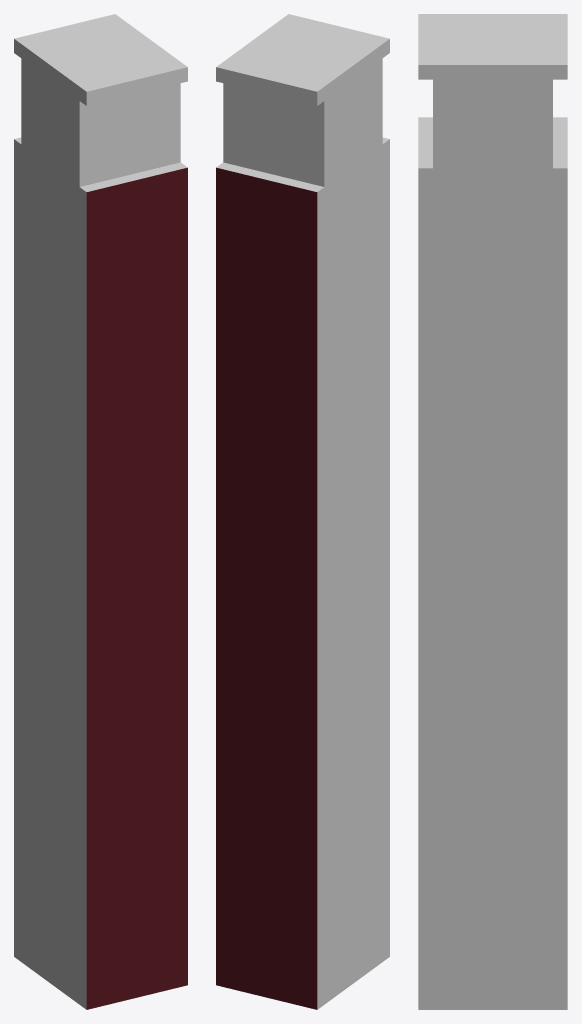
The model's file is sutun.fbx.
3 views of the same model, side by side, from view 1: azimuth 30°, elevation 25°; view 2: azimuth 150°, elevation 25°; view 3: azimuth 270°, elevation 25° (orthographic). The views are drawn at different scales.
Parts seen in each view (by area): view 1: MOD_GlassWallPillar2_MAT_GlassWallPilla_0 (2); view 2: MOD_GlassWallPillar2_MAT_GlassWallPilla_0 (2); view 3: MOD_GlassWallPillar2_MAT_GlassWallPilla_0 (2).
Part boxes in pixels (x1,y1,x2,y2): MOD_GlassWallPillar2_MAT_GlassWallPilla_0 (2): [14, 14, 187, 1009]; MOD_GlassWallPillar2_MAT_GlassWallPilla_0 (2): [216, 14, 389, 1009]; MOD_GlassWallPillar2_MAT_GlassWallPilla_0 (2): [418, 14, 567, 1009].
Bounding box in the file's own units: 5000 × 43341 × 6214.
